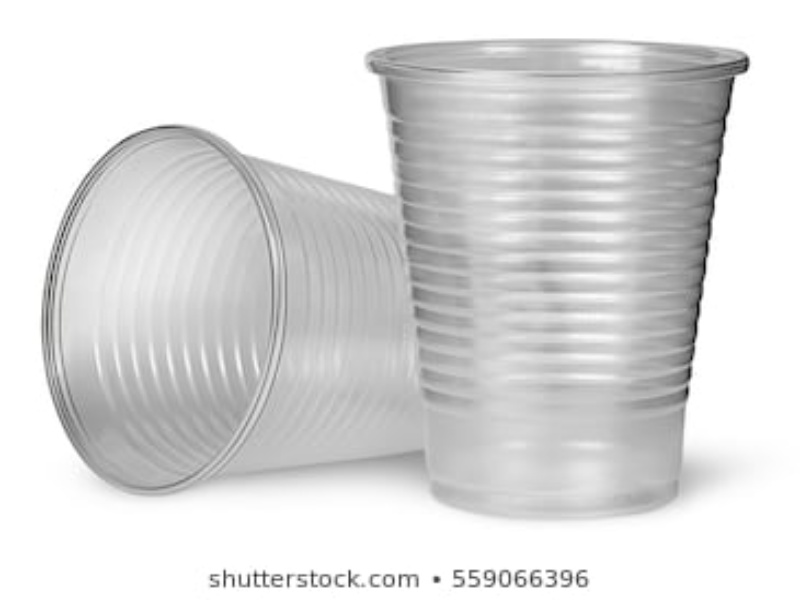plastic-cup: (362, 35, 748, 517), (37, 123, 429, 501)
